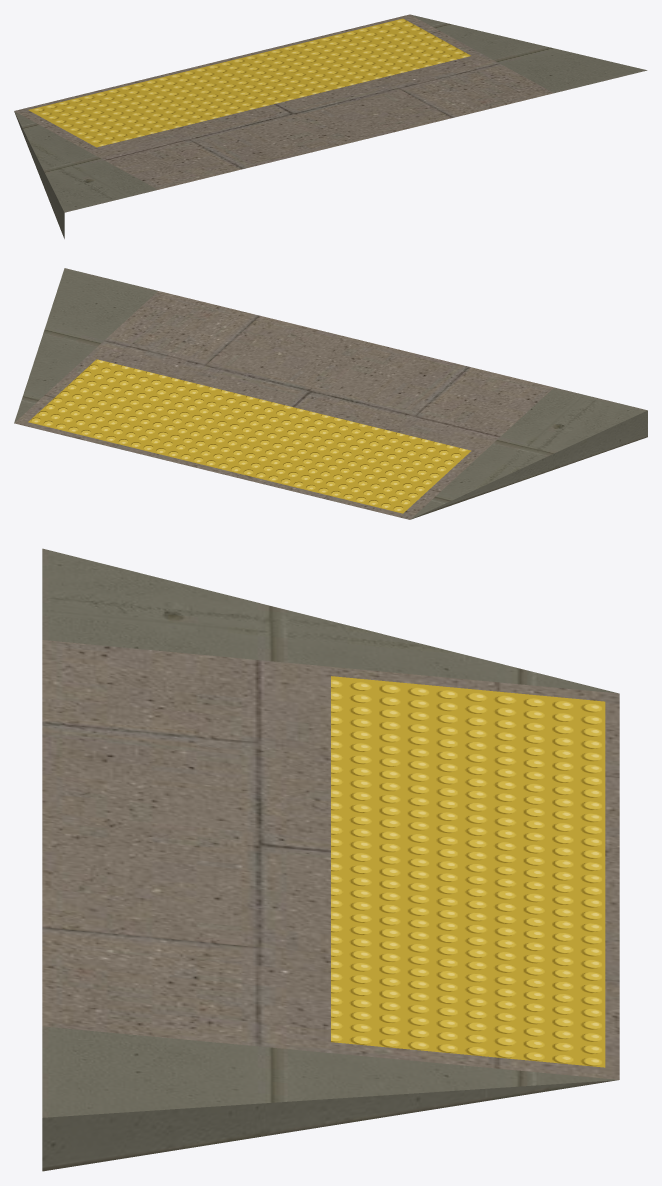
Rendered from curb_ramp.glb.
3 views of the same model, one above another, from view 1: azimuth 30°, elevation 25°; view 2: azimuth 150°, elevation 25°; view 3: azimuth 270°, elevation 25° (orthographic). The views are drawn at different scales.
Visible parts, largest first — view 1: curb_ramp_body; view 2: curb_ramp_body; view 3: curb_ramp_body.
Part boxes in pixels (bbox=[...]): curb_ramp_body: bbox=[14, 14, 647, 238]; curb_ramp_body: bbox=[14, 268, 647, 519]; curb_ramp_body: bbox=[42, 548, 619, 1171].
Bounding box in the file's own units: 0.14 × 0.00615 × 0.06.
3 materials, 3 textured.
